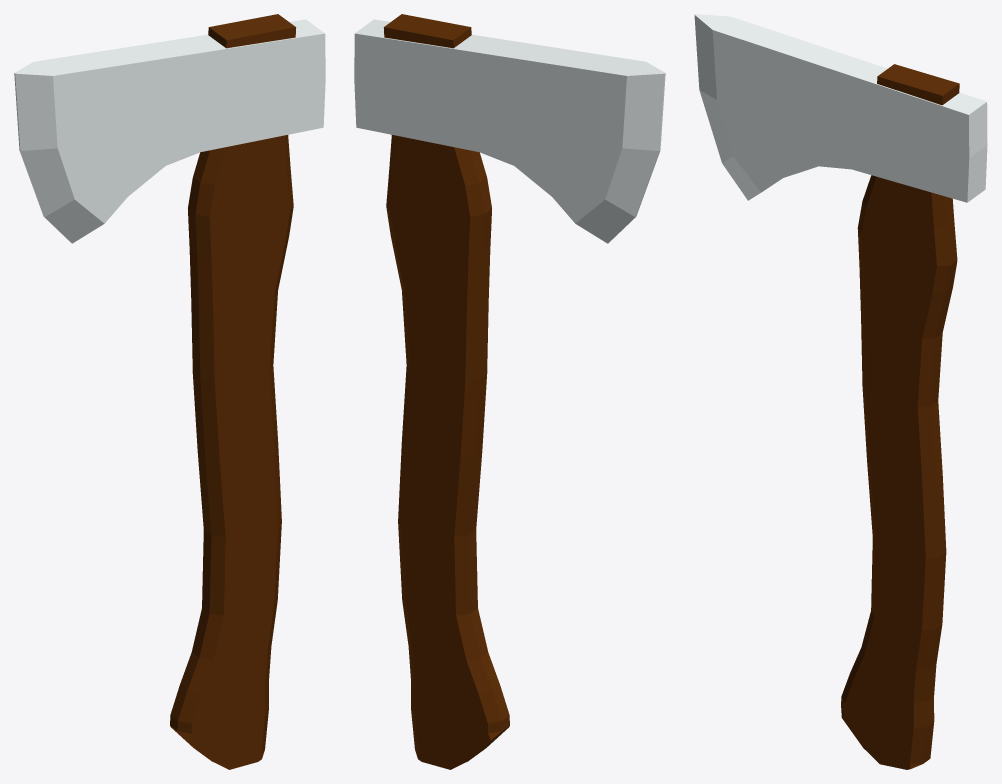
Rendered from axe.fbx.
The picture shows the model from 3 angles, left to right: view 1: azimuth 30°, elevation 25°; view 2: azimuth 150°, elevation 25°; view 3: azimuth 330°, elevation 25°; orthographic projection. The views are drawn at different scales.
Parts seen in each view (by area): view 1: handle, ax; view 2: handle, ax; view 3: handle, ax.
Boxes of the visible parts, left/top/right/bottom form: handle: left=170, top=14, right=296, bottom=769; ax: left=14, top=19, right=325, bottom=243; handle: left=383, top=14, right=509, bottom=769; ax: left=354, top=19, right=665, bottom=243; handle: left=841, top=64, right=959, bottom=769; ax: left=694, top=14, right=987, bottom=202.
Bounding box in the file's own units: 208 × 490 × 23.24.
